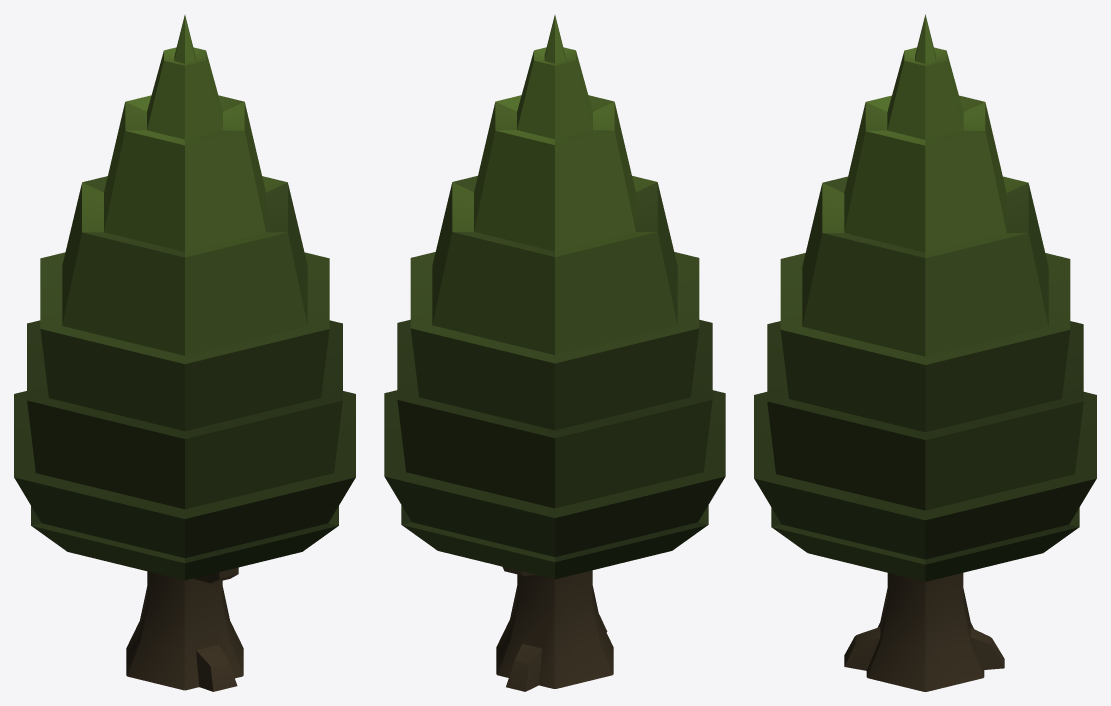
File: Bush.fbx
3 renders of one model, left to right at view 1: azimuth 30°, elevation 25°; view 2: azimuth 150°, elevation 25°; view 3: azimuth 270°, elevation 25°, orthographic.
Parts seen in each view (by area): view 1: Bush; view 2: Bush; view 3: Bush.
Boxes of the visible parts, bbox=[...] form: Bush: bbox=[14, 15, 355, 691]; Bush: bbox=[384, 15, 725, 691]; Bush: bbox=[754, 14, 1096, 691].
Size of the model in its own units: 114 by 206 by 98.3.
